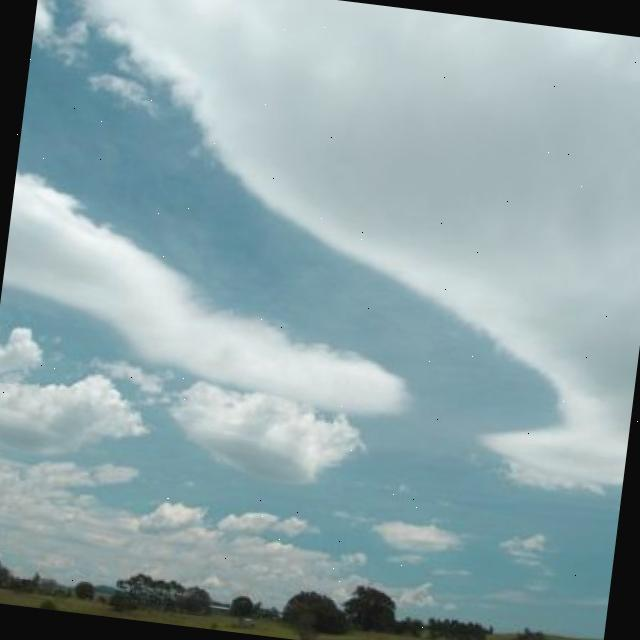Ac: (1, 3, 640, 546)
